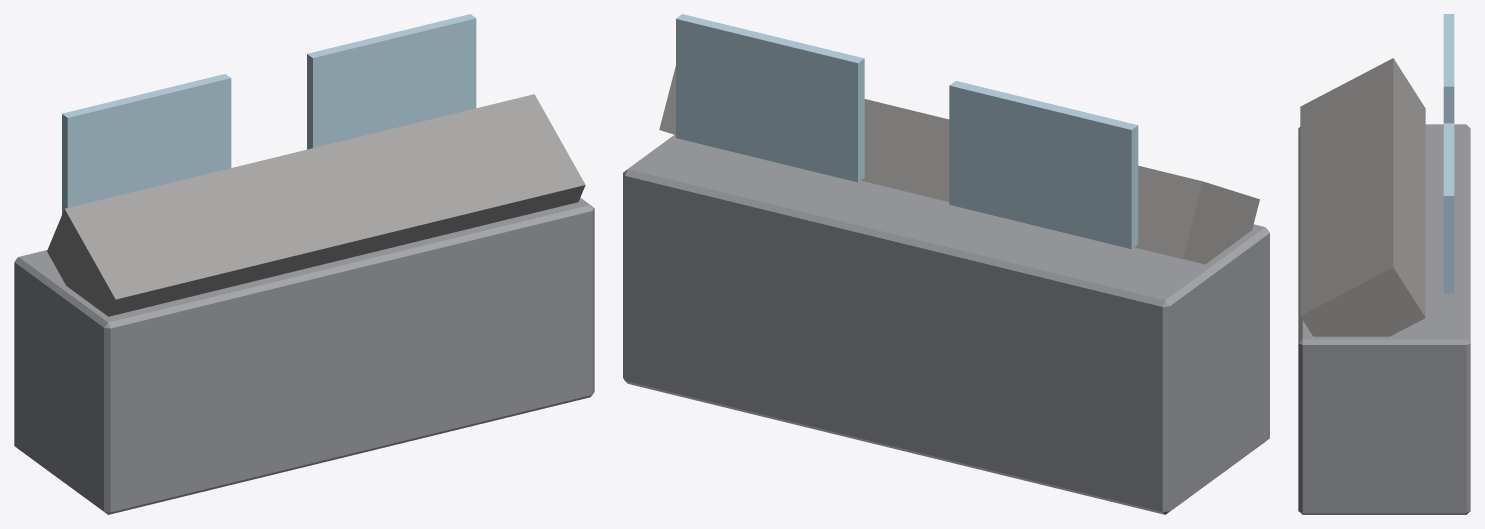
Rendered from control_console.glb.
3 renders of one model, left to right at view 1: azimuth 30°, elevation 25°; view 2: azimuth 150°, elevation 25°; view 3: azimuth 270°, elevation 25°, orthographic. The views are drawn at different scales.
Visible parts, largest first — view 1: control_console; view 2: control_console; view 3: control_console.
Boxes of the visible parts, <box> form: control_console: <box>14,14,594,514</box>; control_console: <box>623,14,1269,514</box>; control_console: <box>1298,14,1470,514</box>.
Size of what is drawn, in the model's own units: 2.4 by 1.55 by 0.8.
